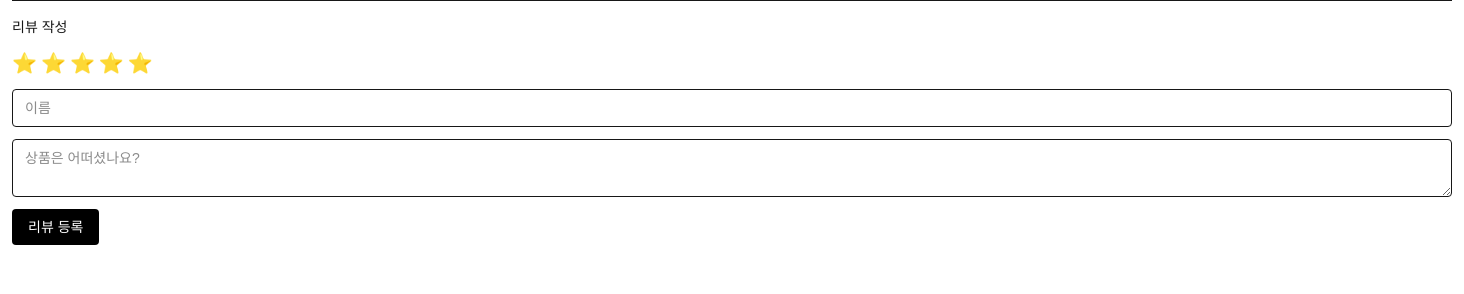
Test: ReviewForm › 실패: 401이면 본문이 없어도 다시 로그인하라는 메시지를 보여준다
Expected: the field labelled "이름" is shown, x1=12 y1=89 x2=1452 y2=127
Click the radio button named "4점".
click(111, 63)  # box x1=99 y1=49 x2=124 y2=77
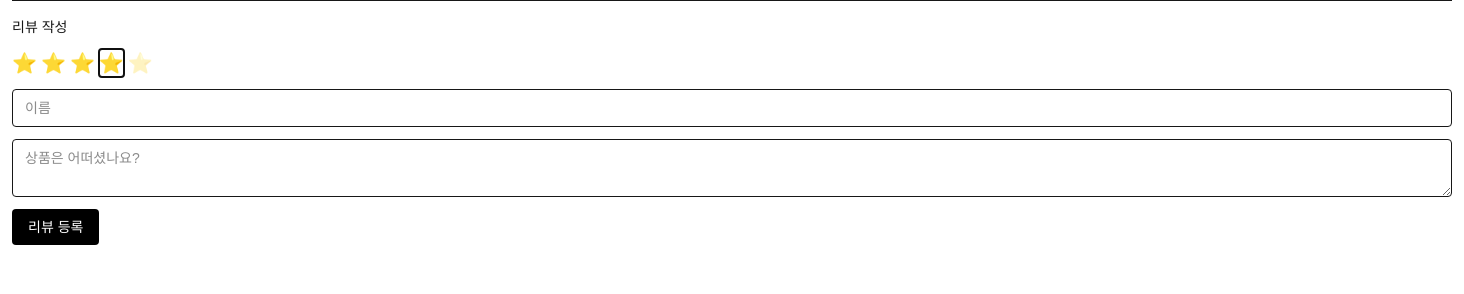
Type "리뷰어" into the field labelled "이름".
click(732, 108); type("리뷰어")  # box x1=12 y1=89 x2=1452 y2=127
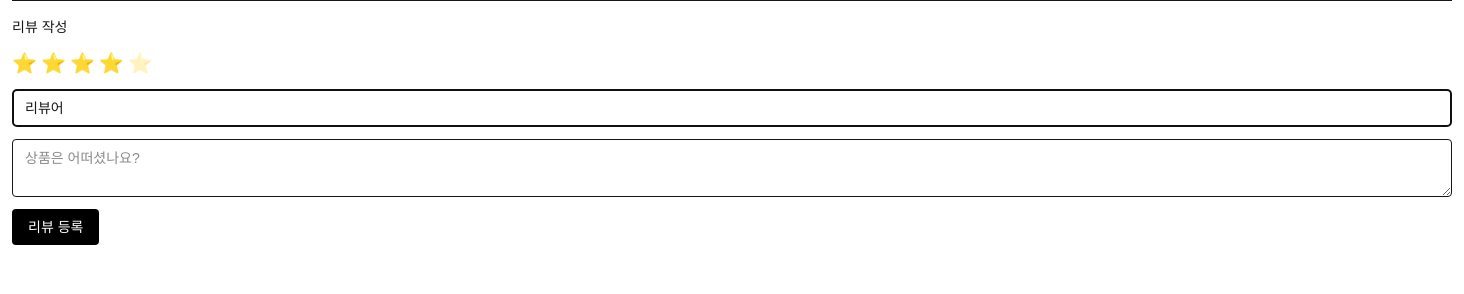
Type "좋아요" into the text box named "리뷰 내용".
click(732, 168); type("좋아요")  # box x1=12 y1=139 x2=1452 y2=197
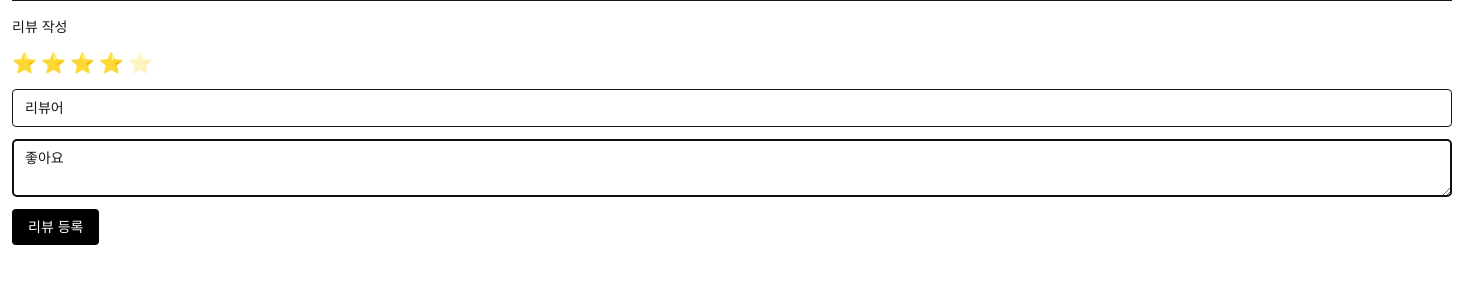
Click the button "리뷰 등록".
click(56, 227)  # box x1=12 y1=209 x2=99 y2=245
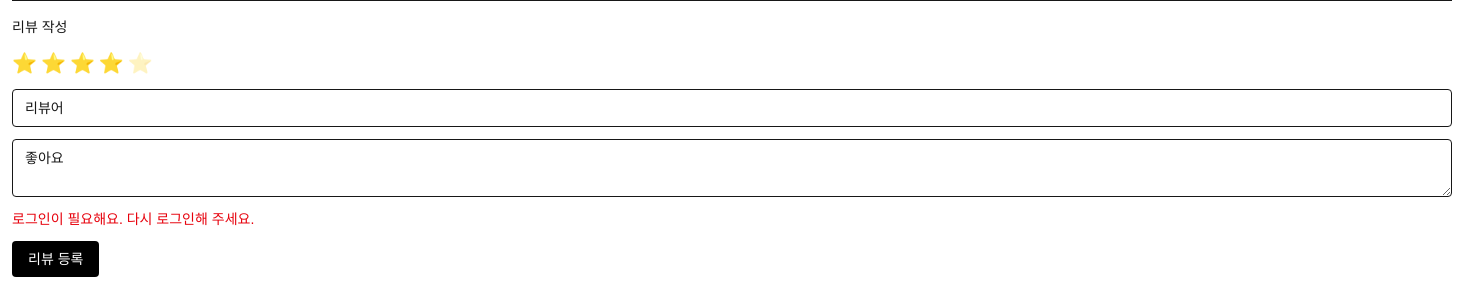
Result: the message shows "로그인이 필요해요" at x1=12 y1=211 x2=254 y2=227
